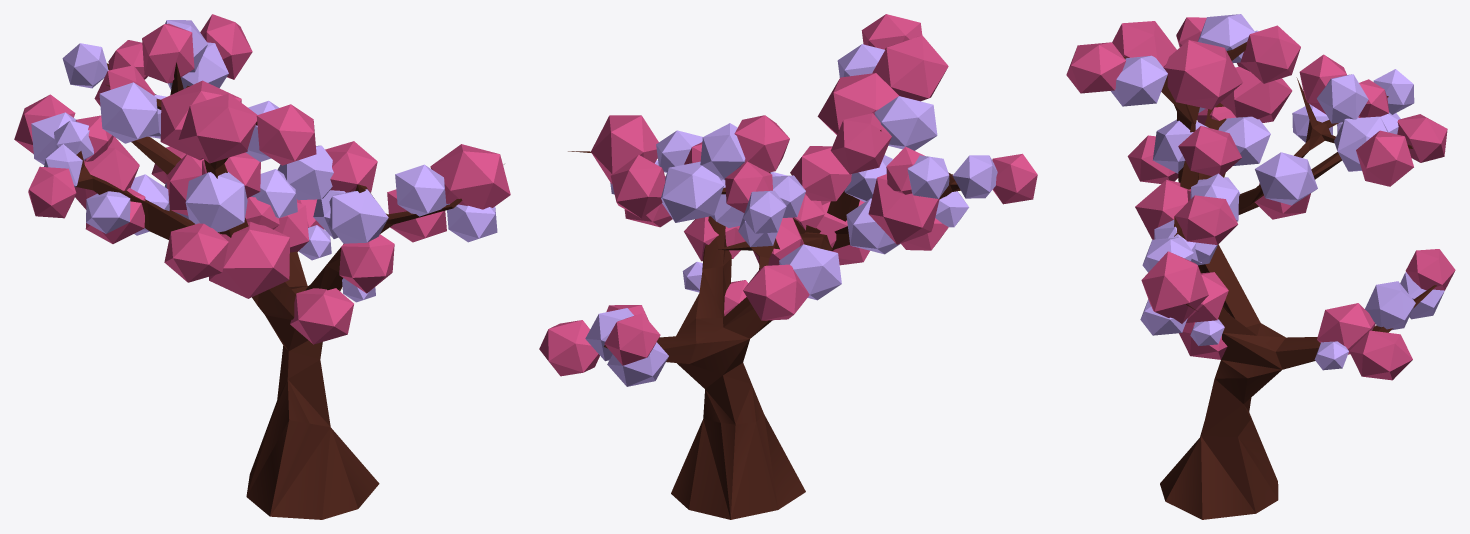
File: Sakura_4 Asia.fbx
3 views of the same model, side by side, from view 1: azimuth 30°, elevation 25°; view 2: azimuth 150°, elevation 25°; view 3: azimuth 270°, elevation 25° (orthographic). The views are drawn at different scales.
Visible parts, largest first — view 1: Sakura_4; view 2: Sakura_4; view 3: Sakura_4.
Boxes of the visible parts, <box> form: Sakura_4: <box>14,14,510,519</box>; Sakura_4: <box>539,14,1037,519</box>; Sakura_4: <box>1066,14,1455,519</box>.
Size of the model in its own units: 4.36 by 3.97 by 3.41.
